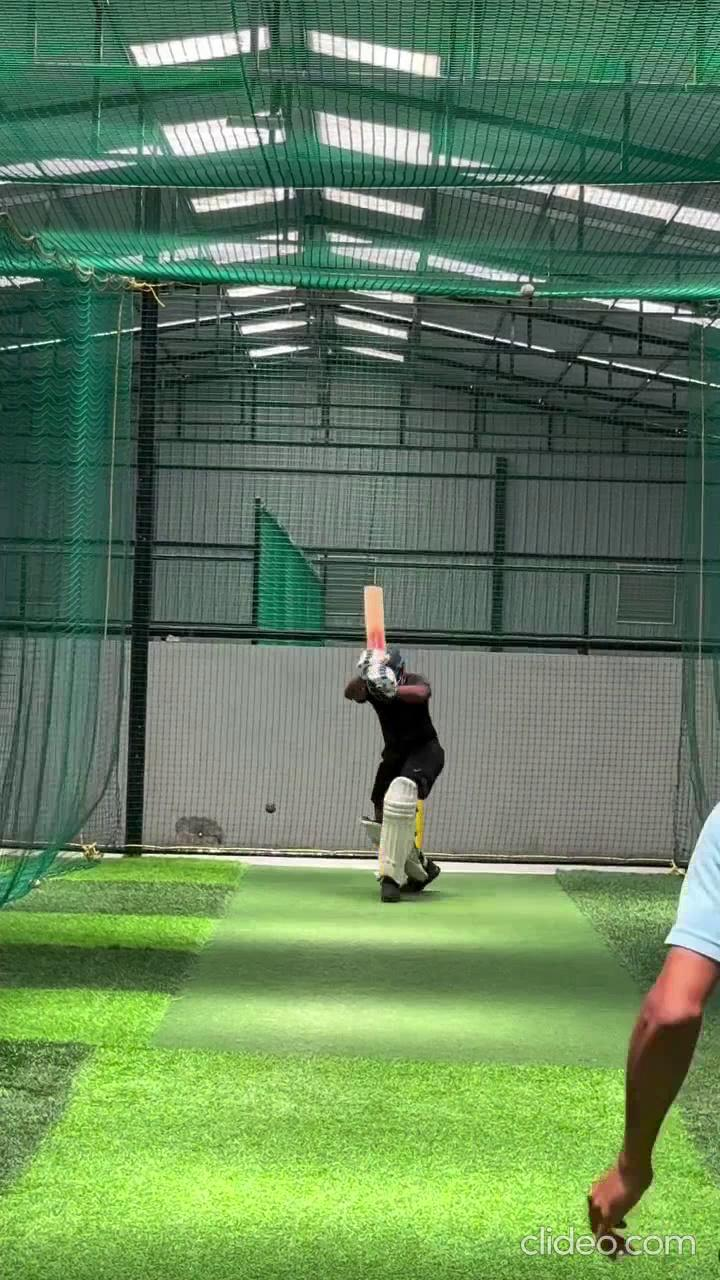bat: (363, 584, 386, 653)
